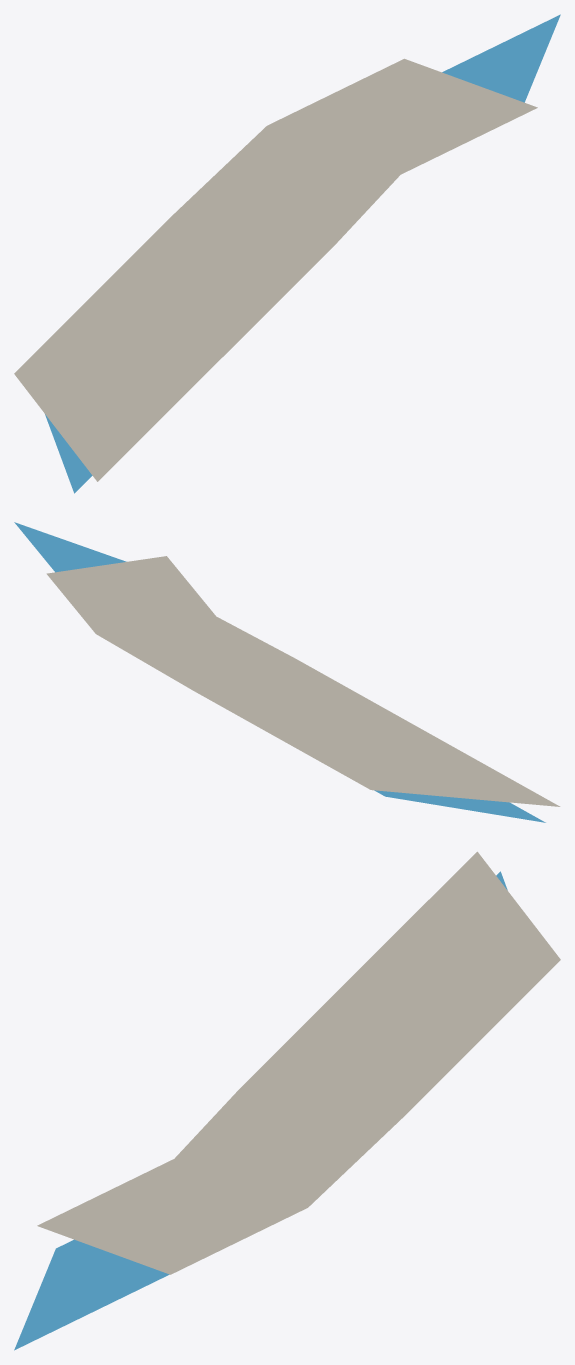
The picture shows the model from 3 angles, top to bottom: view 1: azimuth 90°, elevation 25°; view 2: azimuth 150°, elevation 25°; view 3: azimuth 270°, elevation 25°; orthographic projection. The views are drawn at different scales.
Parts seen in each view (by area): view 1: estructura_terreno, estructura_agua; view 2: estructura_terreno, estructura_agua; view 3: estructura_terreno, estructura_agua.
Part boxes in pixels (<box>): estructura_terreno: <box>14,58,537,481</box>; estructura_agua: <box>45,14,560,493</box>; estructura_terreno: <box>46,556,560,806</box>; estructura_agua: <box>14,522,545,822</box>; estructura_terreno: <box>37,851,560,1274</box>; estructura_agua: <box>14,871,507,1350</box>.
Bounding box in the file's own units: 27.15 × 0.41 × 12.98.
